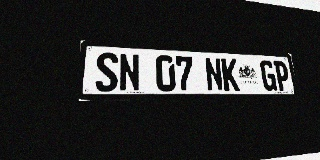0: (155, 55, 176, 91)
7: (175, 56, 195, 91)
G: (259, 60, 277, 91)
K: (221, 58, 240, 91)
N: (119, 53, 140, 92), (204, 57, 224, 91)
P: (273, 61, 291, 91)
S: (95, 52, 118, 92)
